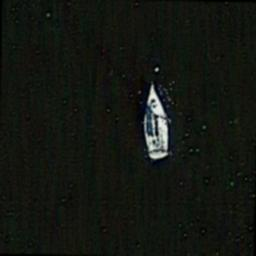boat: (136, 82, 174, 164)
